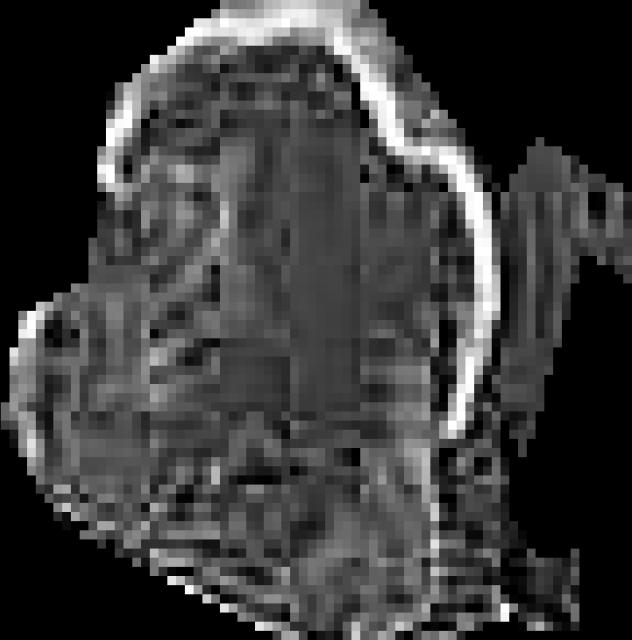tumor_moderate_chance: (1, 0, 632, 640)
